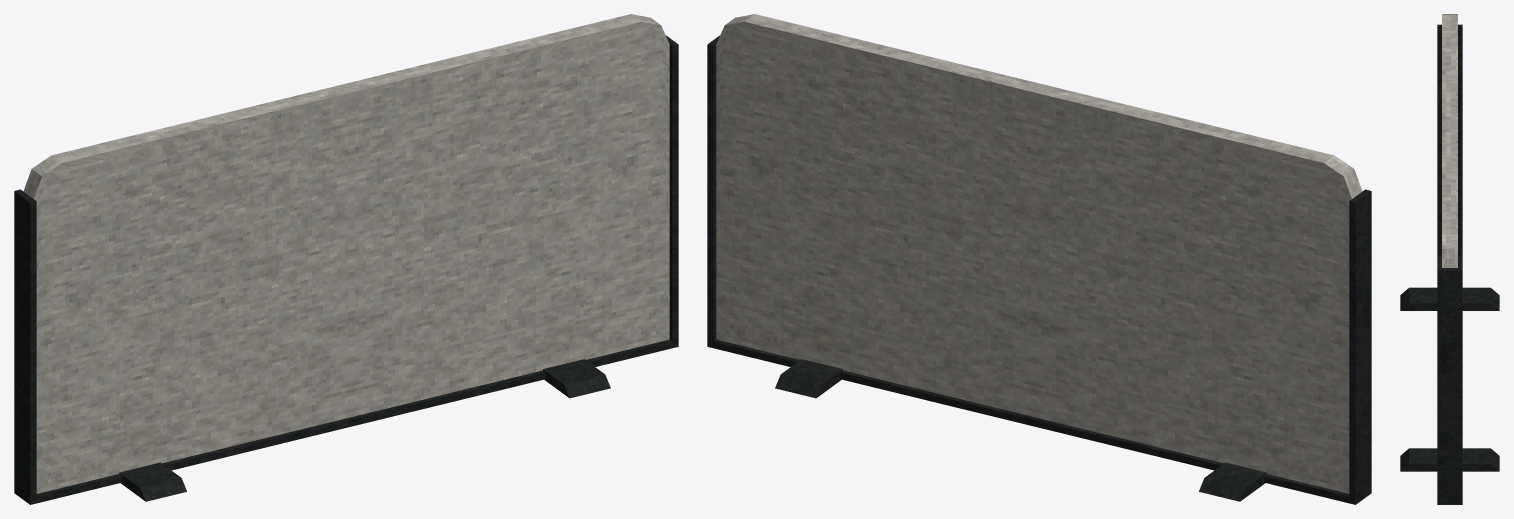
The model's file is divider_black_low.glb.
3 views of the same model, side by side, from view 1: azimuth 30°, elevation 25°; view 2: azimuth 150°, elevation 25°; view 3: azimuth 270°, elevation 25° (orthographic). The views are drawn at different scales.
Visible parts, largest first — view 1: divider_black_low; view 2: divider_black_low; view 3: divider_black_low.
Boxes of the visible parts, <box> form: divider_black_low: <box>14,14,678,504</box>; divider_black_low: <box>707,14,1371,504</box>; divider_black_low: <box>1400,14,1499,504</box>.
Bounding box in the file's own units: 3.06 × 1.5 × 0.523.
Materials: 1 (1 with a texture image).
